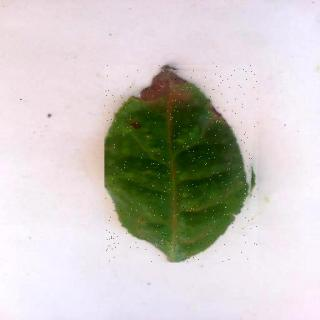Brown Blight: (106, 66, 260, 264)
